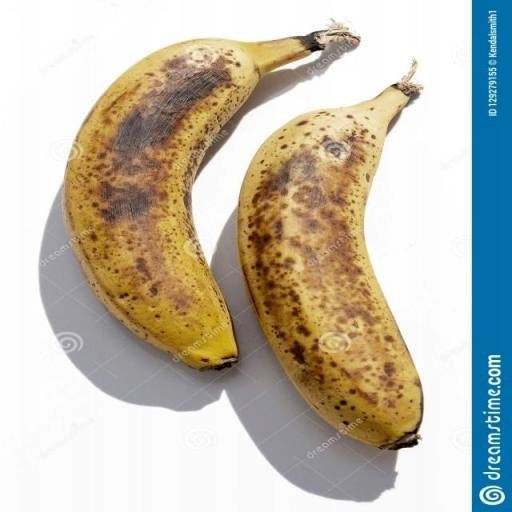fruit: (64, 27, 358, 369), (239, 63, 422, 449)
